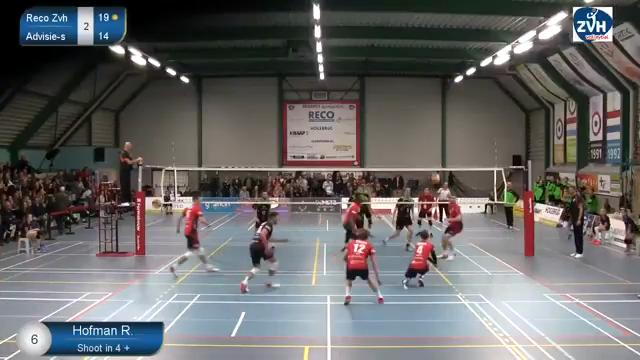ricezione: (392, 226, 443, 292)
